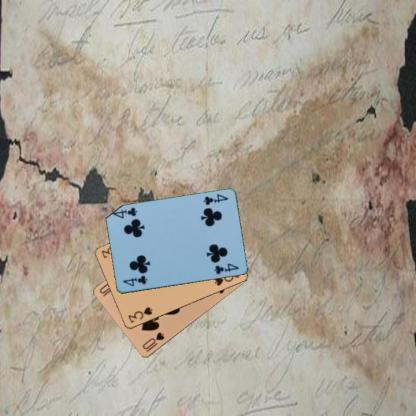10s: (140, 329, 166, 354)
3s: (125, 305, 154, 324)
4c: (120, 272, 149, 288), (201, 192, 230, 207)
